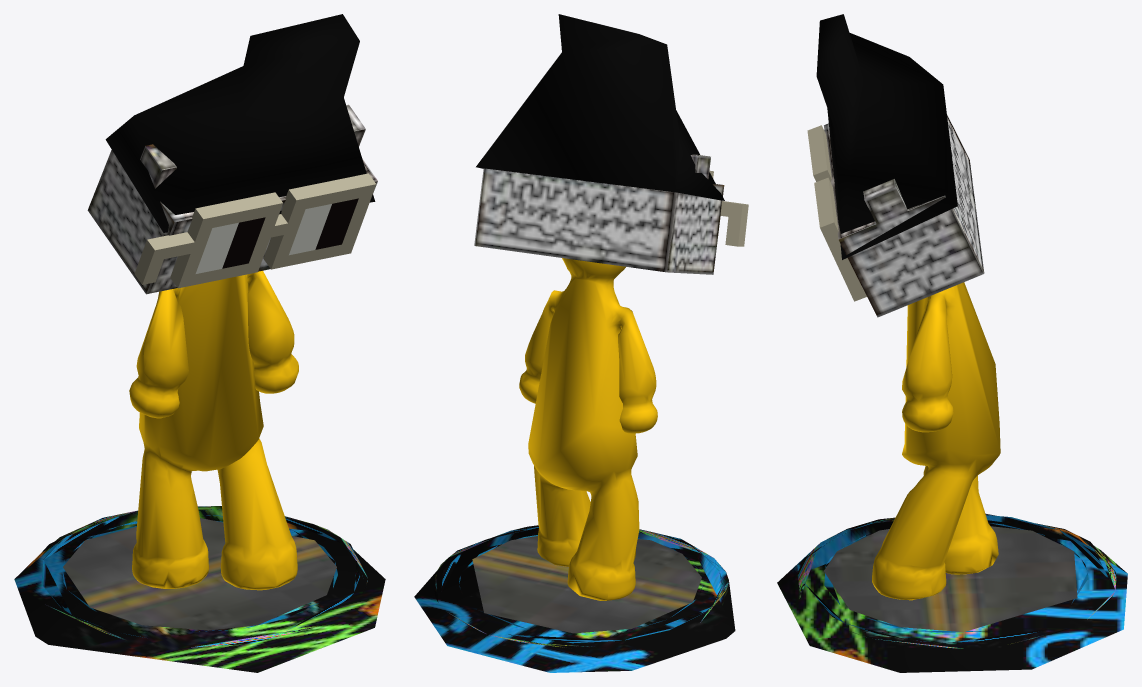
Rendered from out_bOOBOXBODY_Mat_1_Mat_1.baked.001_LOD1_105_LOD.glb.
3 views of the same model, side by side, from view 1: azimuth 30°, elevation 25°; view 2: azimuth 150°, elevation 25°; view 3: azimuth 270°, elevation 25° (orthographic). The views are drawn at different scales.
Parts seen in each view (by area): view 1: bOOBOXBODY_Mat_1_Mat_1.baked.001_LOD1; view 2: bOOBOXBODY_Mat_1_Mat_1.baked.001_LOD1; view 3: bOOBOXBODY_Mat_1_Mat_1.baked.001_LOD1.
Part boxes in pixels (box(x1,y1,x2,y2)): bOOBOXBODY_Mat_1_Mat_1.baked.001_LOD1: box(14, 14, 385, 672); bOOBOXBODY_Mat_1_Mat_1.baked.001_LOD1: box(414, 14, 748, 672); bOOBOXBODY_Mat_1_Mat_1.baked.001_LOD1: box(777, 14, 1127, 672).
Bounding box in the file's own units: 1.41 × 2.54 × 1.39.
Materials: 6 (4 with a texture image).
